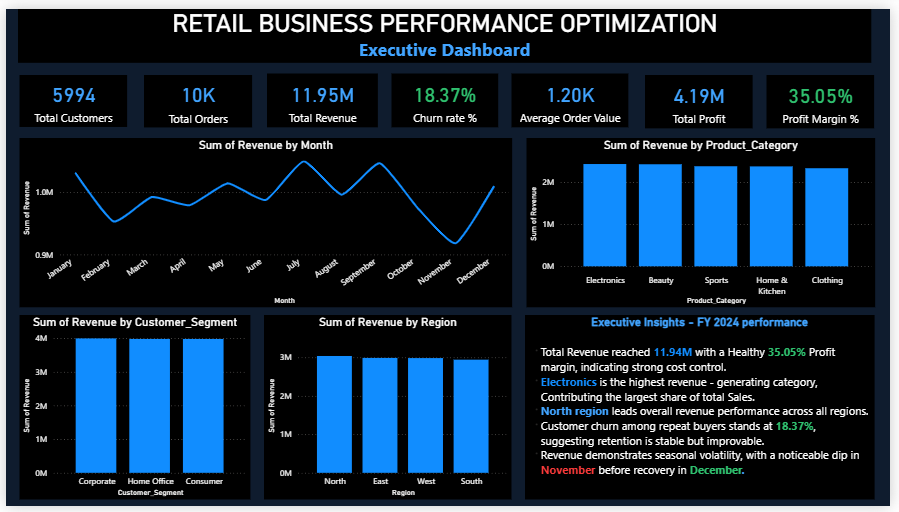

The dashboard page shown, as its layout file describes it:
{"tool":"powerbi","page":{"name":"Executive Dashboard","canvas":[1280,720],"ordinal":0},"visuals":[{"type":"card","fields":{"Values":["Business_Analytics_Dataset_1000.average order value (aov)"]},"box":[732.6,93.3,169.6,78.3],"z":2},{"type":"card","fields":{"Values":["Business_Analytics_Dataset_1000.total Profit"]},"box":[925.7,94.7,156.1,77.2],"z":5},{"type":"card","fields":{"Values":["Business_Analytics_Dataset_1000.total Customers"]},"box":[20.4,94.7,156.1,75.4],"z":6},{"type":"card","fields":{"Values":["Business_Analytics_Dataset_1000.total orders"]},"box":[200,95.5,156.5,76.1],"z":7},{"type":"card","fields":{"Values":["Business_Analytics_Dataset_1000.profit margin %"]},"box":[1102.9,94.7,156.1,77.2],"z":8},{"type":"card","fields":{"Values":["Customer Summary.Churn rate %"]},"box":[558.7,93.3,154.3,78.3],"z":9},{"type":"card","fields":{"Values":["Business_Analytics_Dataset_1000.total revenue"]},"box":[378.3,93.3,160.9,78.3],"z":10},{"type":"lineChart","fields":{"Y":["Sum(Business_Analytics_Dataset_1000.Revenue)"],"Category":["Business_Analytics_Dataset_1000.order year-month.Variation.Date Hierarchy.Month"]},"box":[20.4,186.7,714,245.6],"z":11},{"type":"columnChart","fields":{"Category":["Business_Analytics_Dataset_1000.Product_Category"],"Y":["Sum(Business_Analytics_Dataset_1000.Revenue)"]},"box":[753.8,186.7,505.3,245.6],"z":12},{"type":"columnChart","fields":{"Category":["Business_Analytics_Dataset_1000.Customer_Segment"],"Y":["Sum(Business_Analytics_Dataset_1000.Revenue)"]},"box":[18.8,443.5,334.8,267.4],"z":15},{"type":"columnChart","fields":{"Category":["Business_Analytics_Dataset_1000.Region"],"Y":["Sum(Business_Analytics_Dataset_1000.Revenue)"]},"box":[373.9,443.5,358.7,267.4],"z":16},{"type":"textbox","title":"Executive Insights - FY 2024 performance","box":[751.4,443.5,506.5,267.4],"z":17},{"type":"textbox","title":"RETAIL BUSINESS PERFORMANCE OPTIMIZATION","box":[17.4,0,1241.3,84.8],"z":18}]}

Visuals, with their boxes in screenshot pixels (x1, y1, x2, y2), scaled from the page's 1280x720 canvas onto the 899x512 screenshot:
card - Business_Analytics_Dataset_1000.average order value (aov): [515,66,634,122]
card - Business_Analytics_Dataset_1000.total Profit: [650,67,760,122]
card - Business_Analytics_Dataset_1000.total Customers: [14,67,124,121]
card - Business_Analytics_Dataset_1000.total orders: [140,68,250,122]
card - Business_Analytics_Dataset_1000.profit margin %: [775,67,884,122]
card - Customer Summary.Churn rate %: [392,66,501,122]
card - Business_Analytics_Dataset_1000.total revenue: [266,66,379,122]
lineChart - Sum(Business_Analytics_Dataset_1000.Revenue) x Business_Analytics_Dataset_1000.order year-month.Variation.Date Hierarchy.Month: [14,133,516,307]
columnChart - Business_Analytics_Dataset_1000.Product_Category x Sum(Business_Analytics_Dataset_1000.Revenue): [529,133,884,307]
columnChart - Business_Analytics_Dataset_1000.Customer_Segment x Sum(Business_Analytics_Dataset_1000.Revenue): [13,315,248,506]
columnChart - Business_Analytics_Dataset_1000.Region x Sum(Business_Analytics_Dataset_1000.Revenue): [263,315,515,506]
"Executive Insights - FY 2024 performance" textbox: [528,315,883,506]
"RETAIL BUSINESS PERFORMANCE OPTIMIZATION" textbox: [12,0,884,60]
